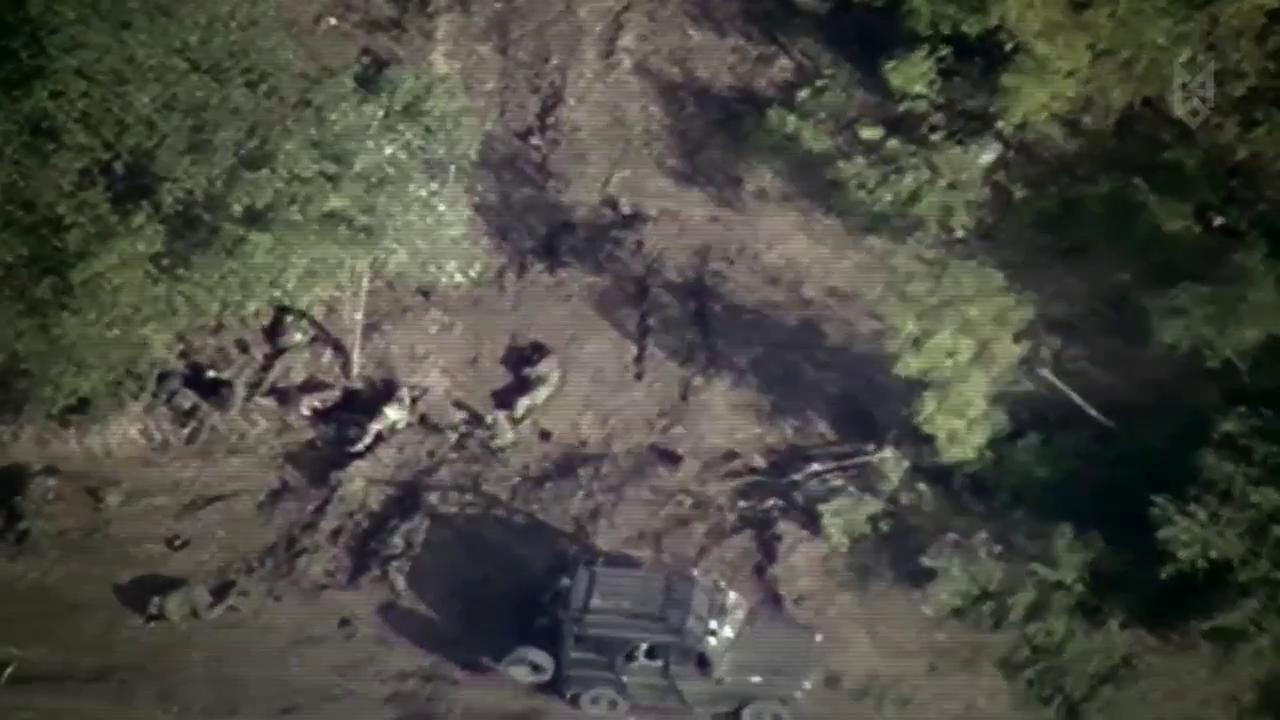tank: (545, 558, 831, 720)
